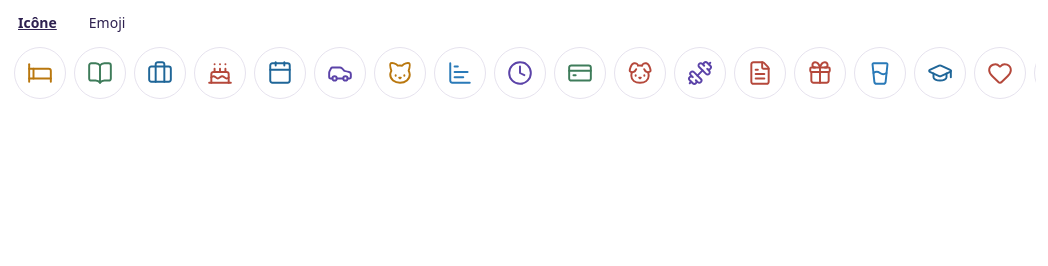
Scenario: IconChooser (T-03) › démarre en mode Icône par défaut et bascule en Emoji au clic (sémantique radio)
Click the radio button labelled "Emoji": point(107, 22) [83,12,131,33]
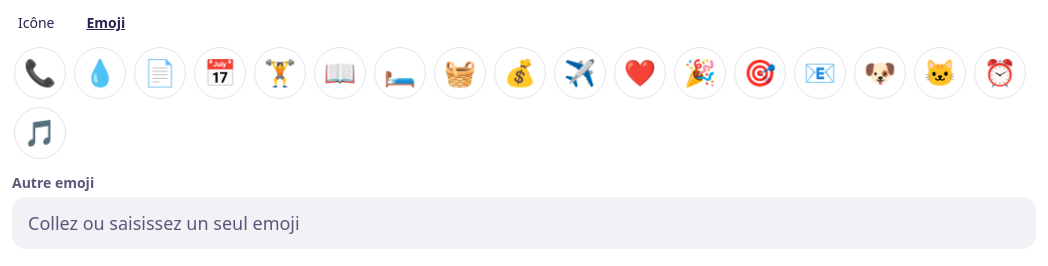
Check: the button named "Emoji téléphone" is shown, box [14,47,66,99]
